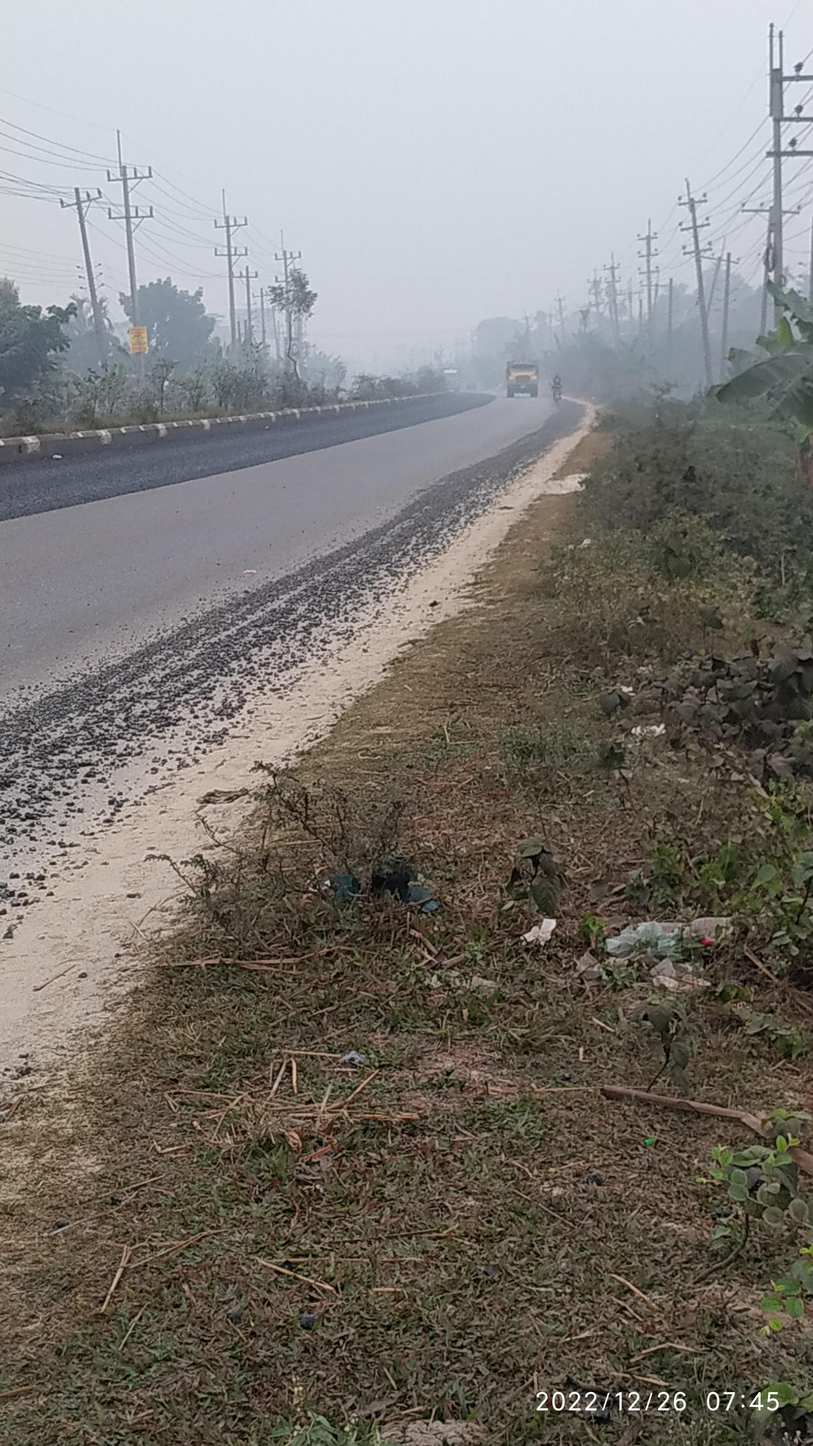Bike: (543, 367, 584, 426)
Truck: (500, 351, 546, 403)
